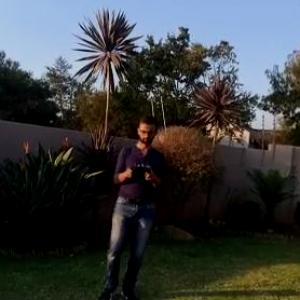follow: (95, 111, 169, 299)
